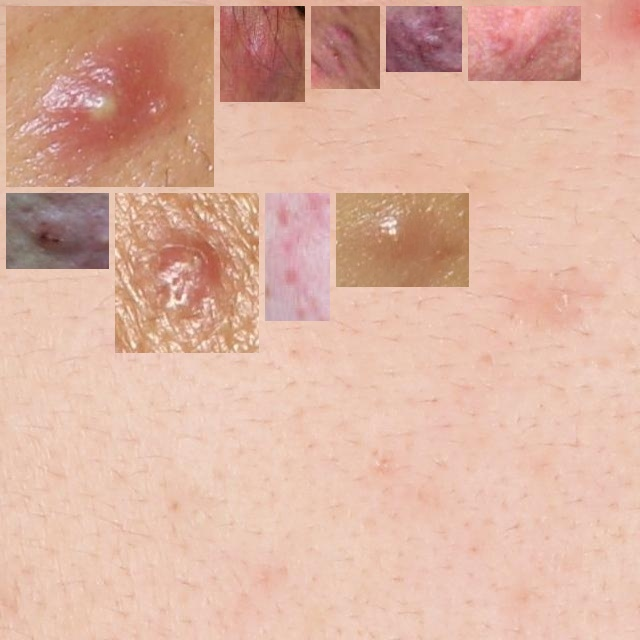nodule: (14, 14, 206, 179), (123, 201, 251, 345), (344, 201, 461, 279), (476, 14, 573, 73), (228, 14, 297, 94), (273, 201, 322, 313), (14, 201, 101, 261), (319, 14, 372, 81), (394, 14, 454, 64)
